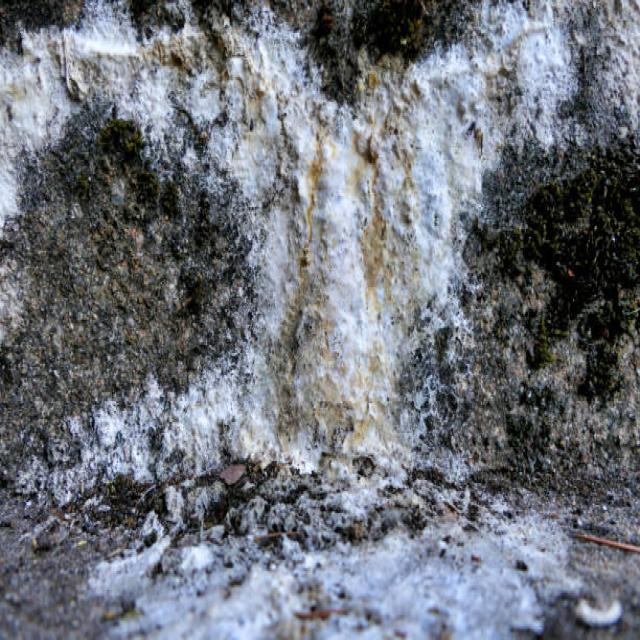stain_mould: (0, 5, 633, 639)
